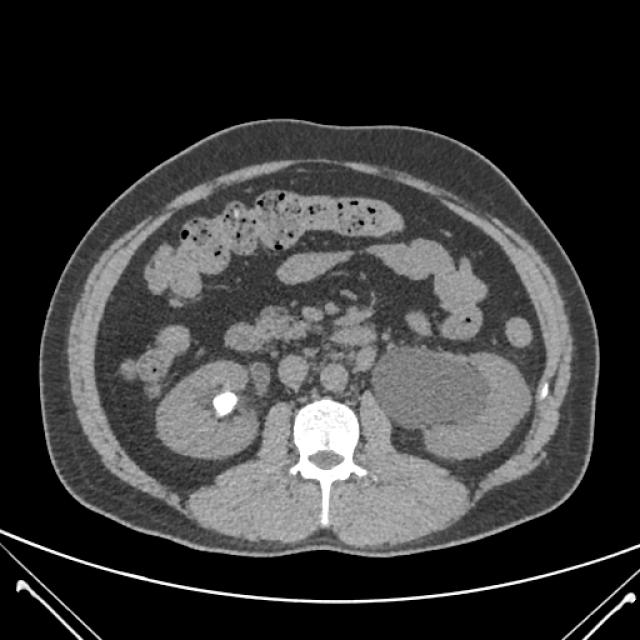kidneystone: (212, 391, 238, 417)
